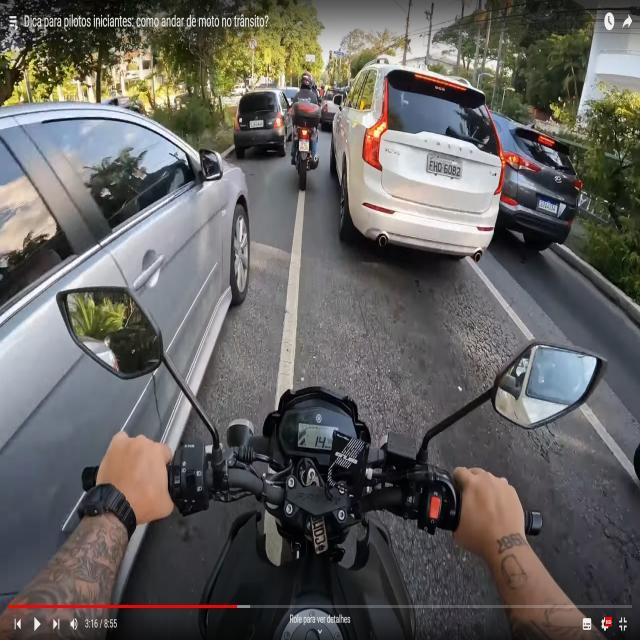Placa_mercosul_carro: (427, 151, 462, 179)
